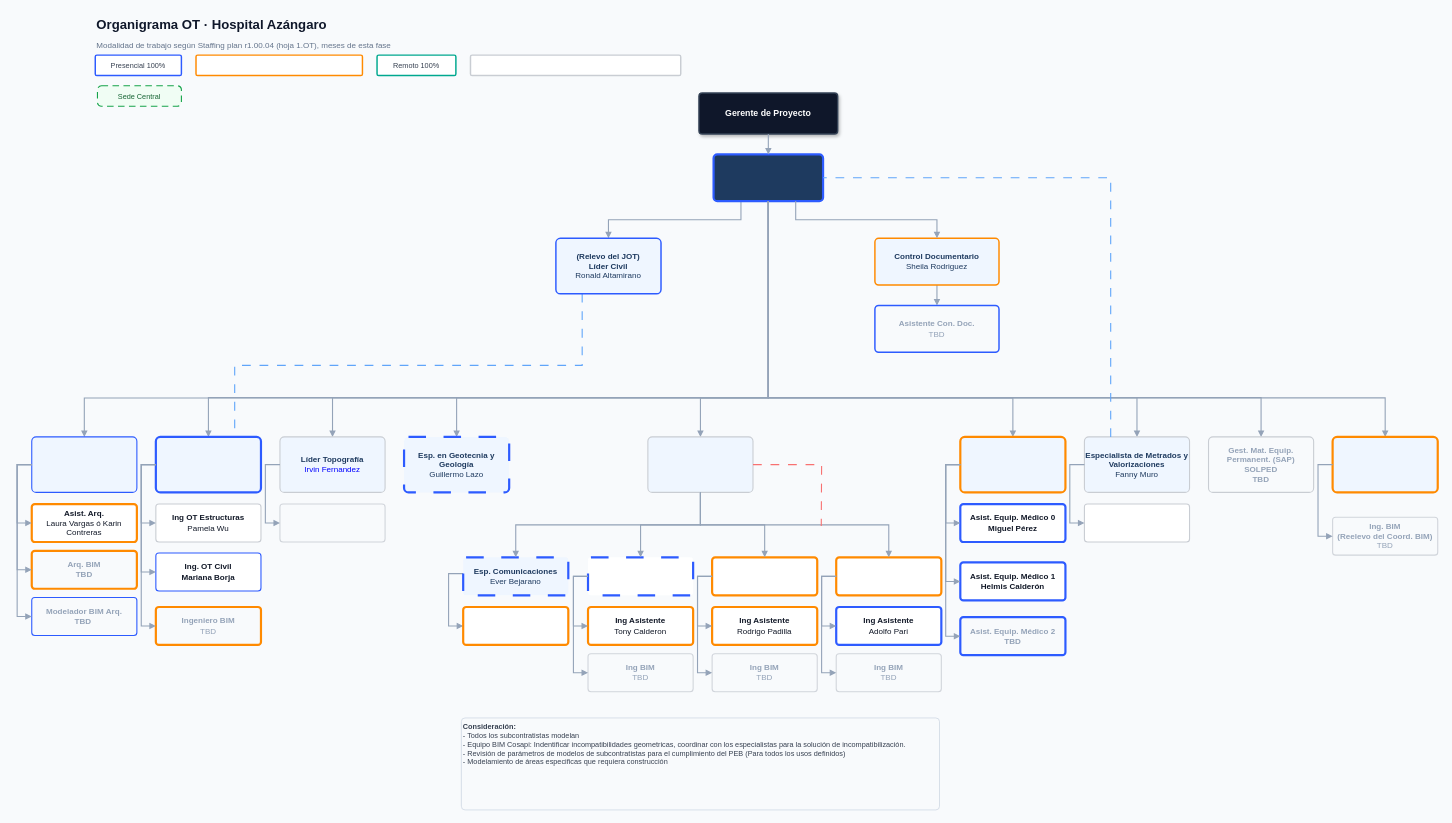
The diagram is 1452 pixels wide and 823 high, and some of its shapes have lost their labels. Here are the shapes that lost their labels. From the top down, the centre of each, then its label:
(279,65): Remoto al inicio, luego presencial
(575,65): Sin dato en el staffing o sin meses en la fase
(768,177): Jefe de Oficina Técnica Fanny Muro
(84,464): Líder Arq. Liz Vásquez
(208,464): Líder Civil Especialista en Estructuras Ronald Altamirano
(700,464): Líder MEP Ronald López
(1012,464): Equipos Médicos José Rosas
(1384,464): Coord. BIM Renzo Paredes
(332,522): Relevo Topografía (Asistente de Top.) TBD
(1137,522): Asistente Metrados Tradiional José Sernaqué
(640,576): Esp. Mecánico Hertz Gonzáles
(764,576): Esp. EE&II Ronald López
(888,576): Esp. Tuberías Rudy Hurtado
(515,626): Ing Asistente Gianfranco Fernández
